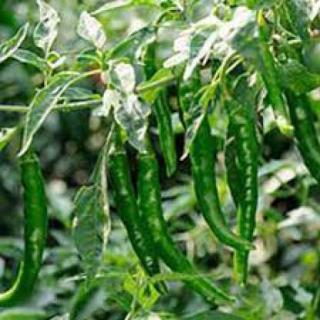green_chilli: (134, 146, 238, 308), (182, 113, 257, 254), (106, 152, 170, 300), (1, 154, 46, 311), (222, 106, 259, 284), (136, 42, 181, 180), (249, 25, 296, 141), (283, 58, 319, 192)
